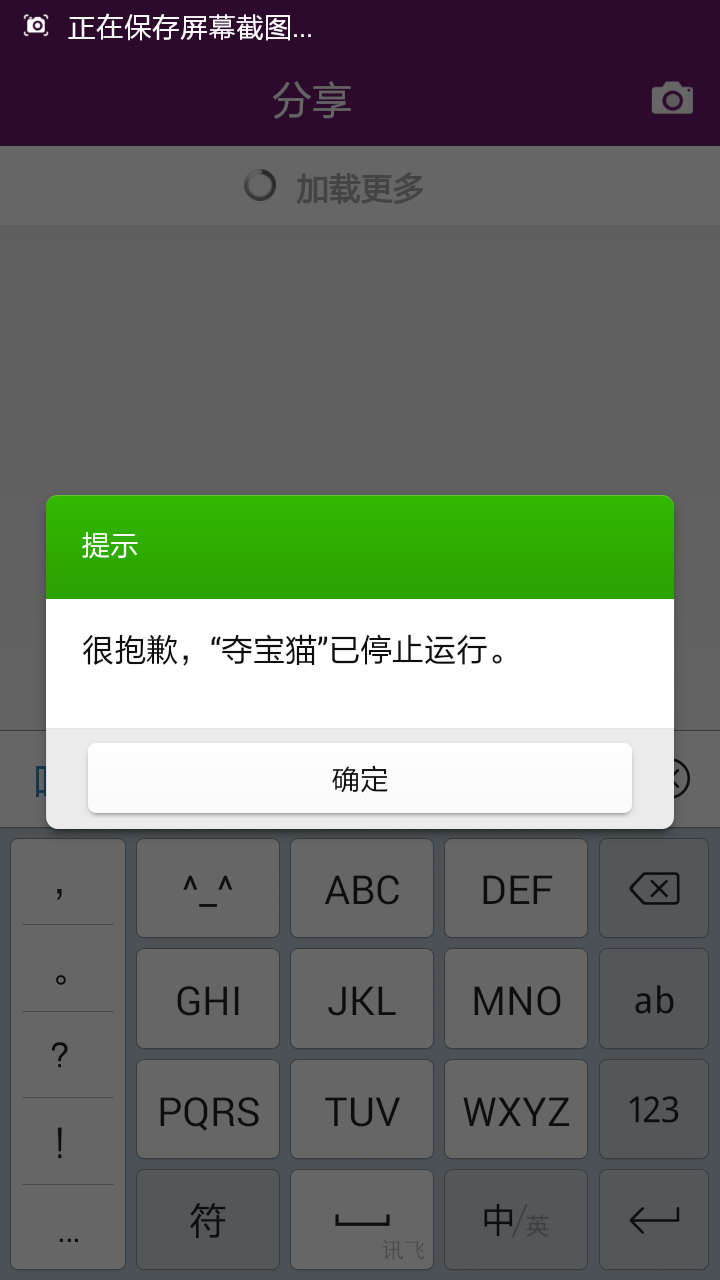alert: (26, 487, 692, 845)
button: (78, 735, 660, 821)
textview: (14, 64, 720, 159)
